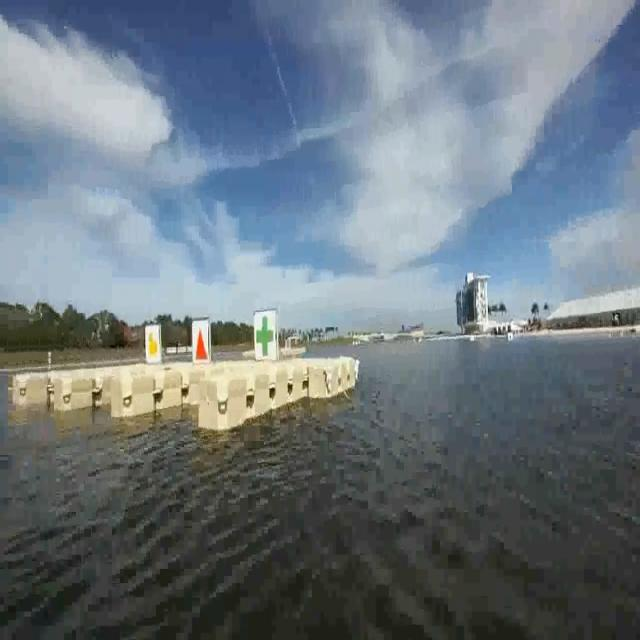blue-cross: (254, 311, 277, 361)
red-dot: (189, 317, 210, 356)
yellow-duck: (141, 326, 163, 363)
